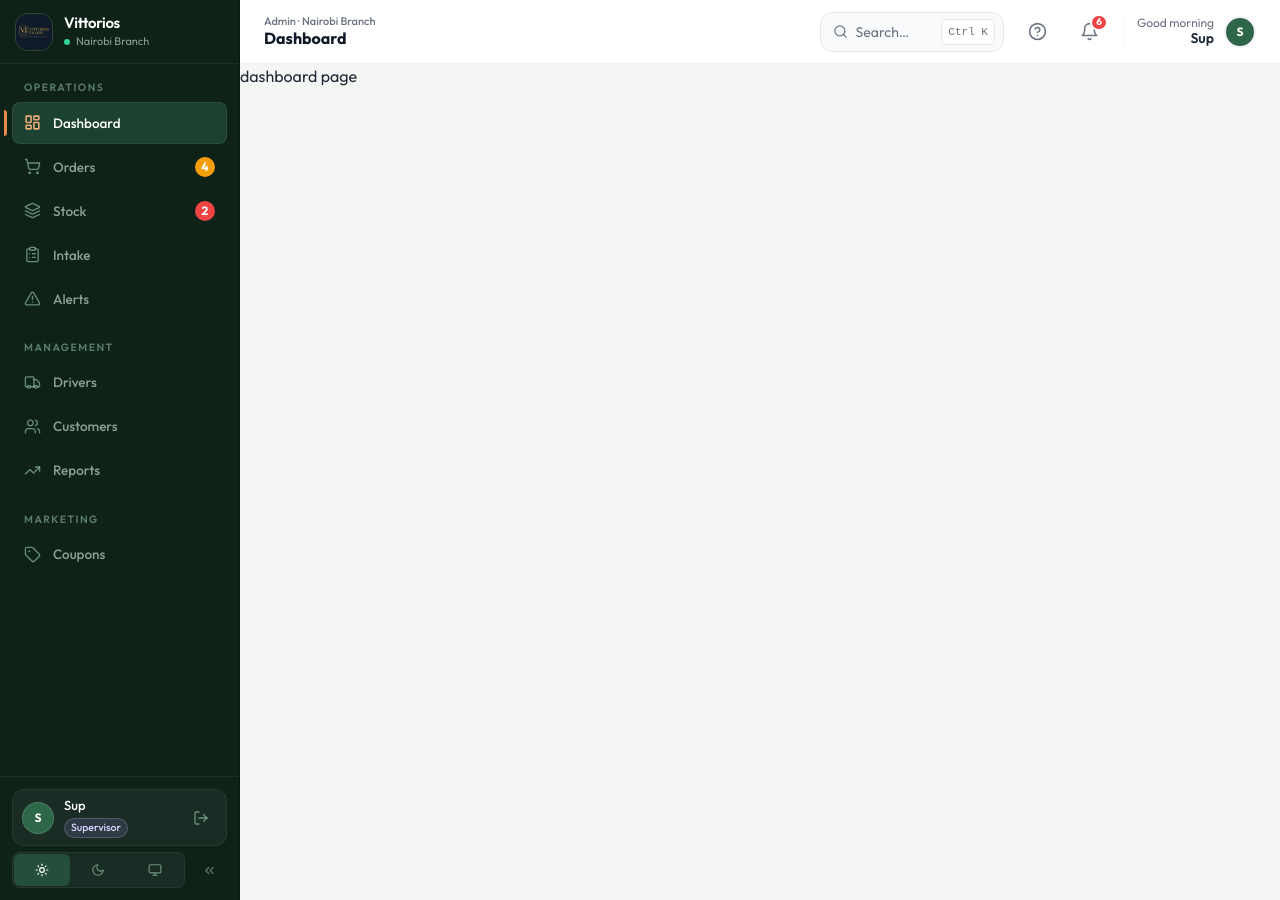
Scenario: AdminLayout — search palette › opens from the top bar, filters pages by what you type, and navigates on Enter
Click the button with aria-label "Search pages and orders": point(912, 32) [820,12,1004,52]
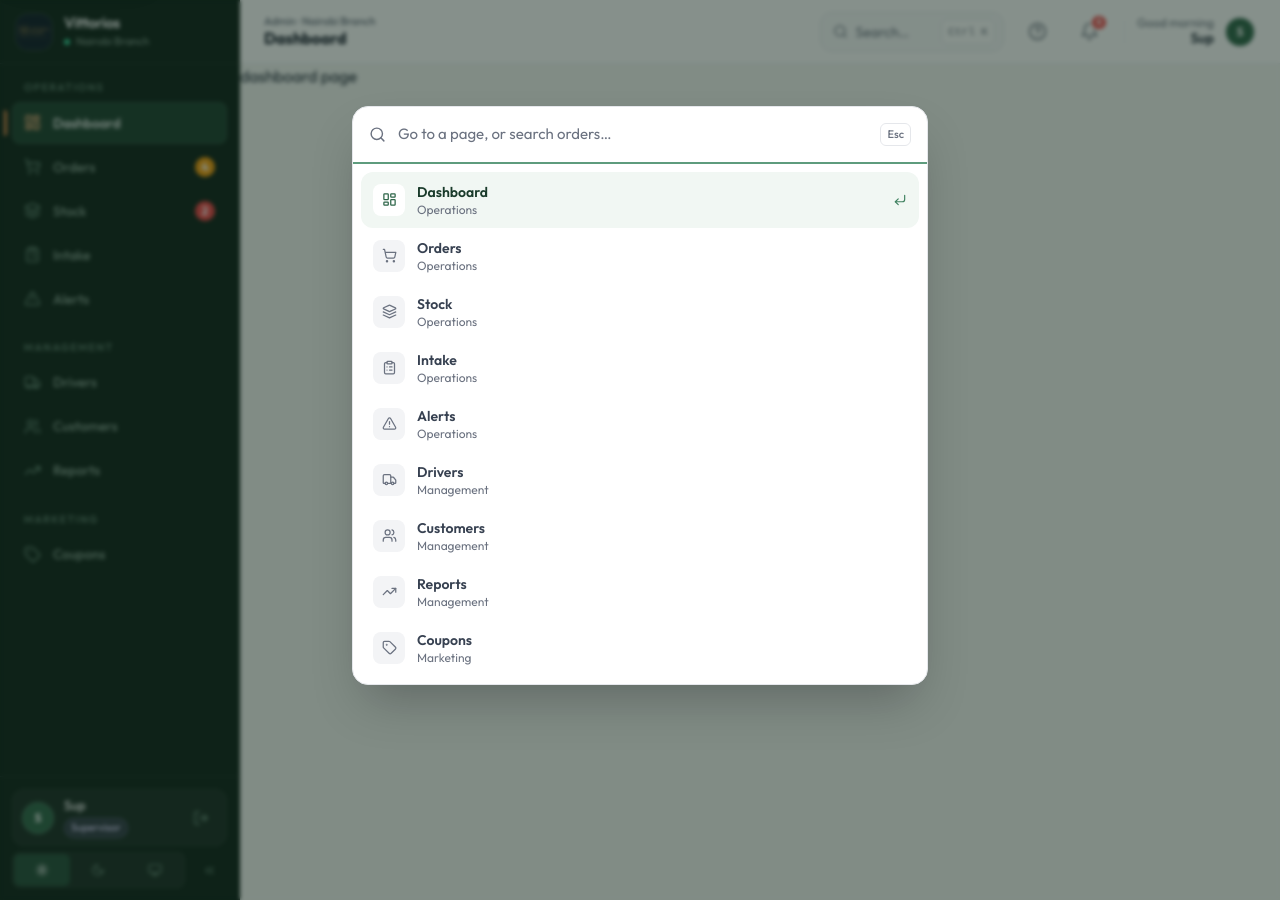
Result: the option "Orders Operations" is shown at [373,238,477,272]
Type keys "inta"
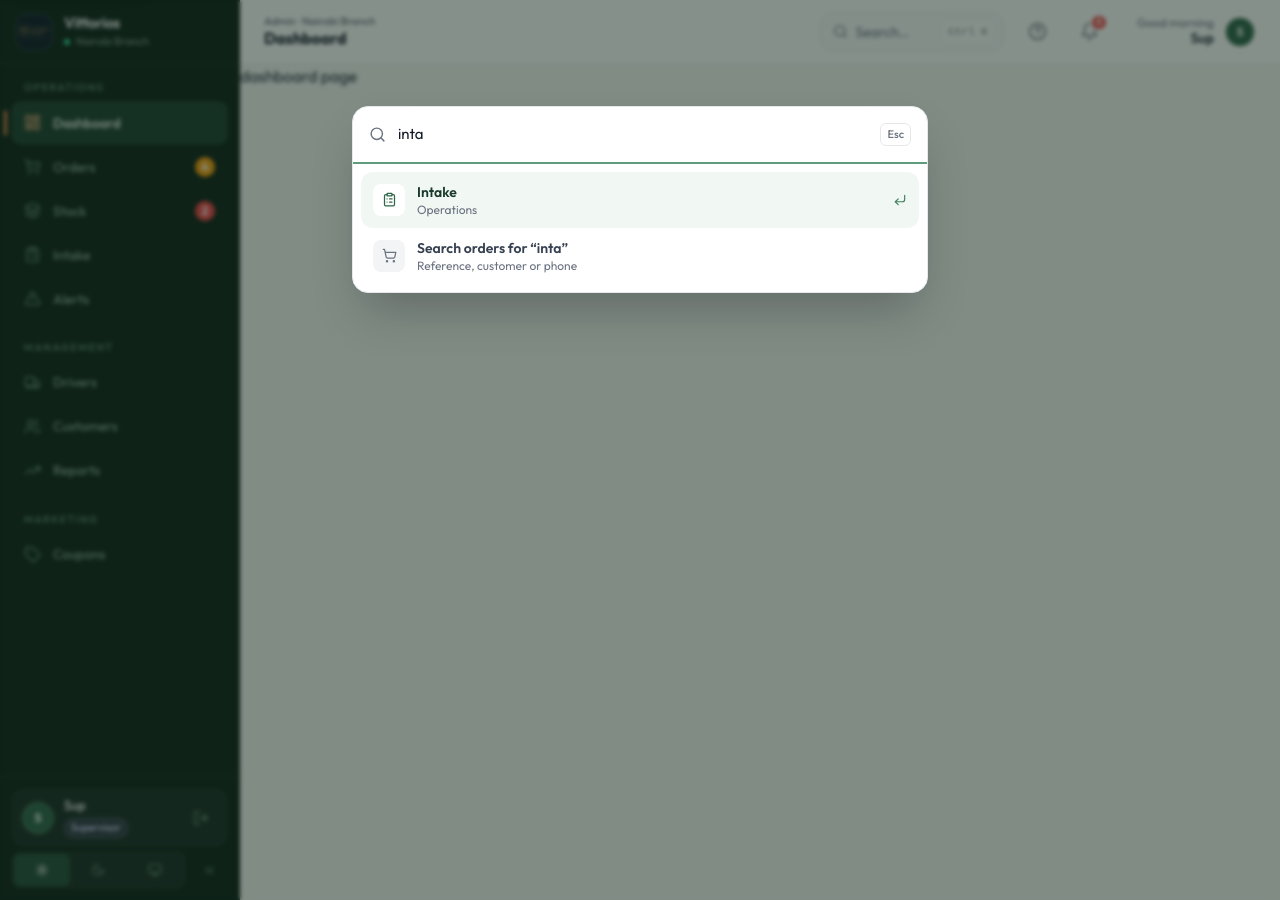
Result: the option "Intake Operations" is shown at [361,172,919,228]
Result: the option "Search orders for “inta” Reference, customer or phone" is shown at [373,238,577,272]
Press Enter
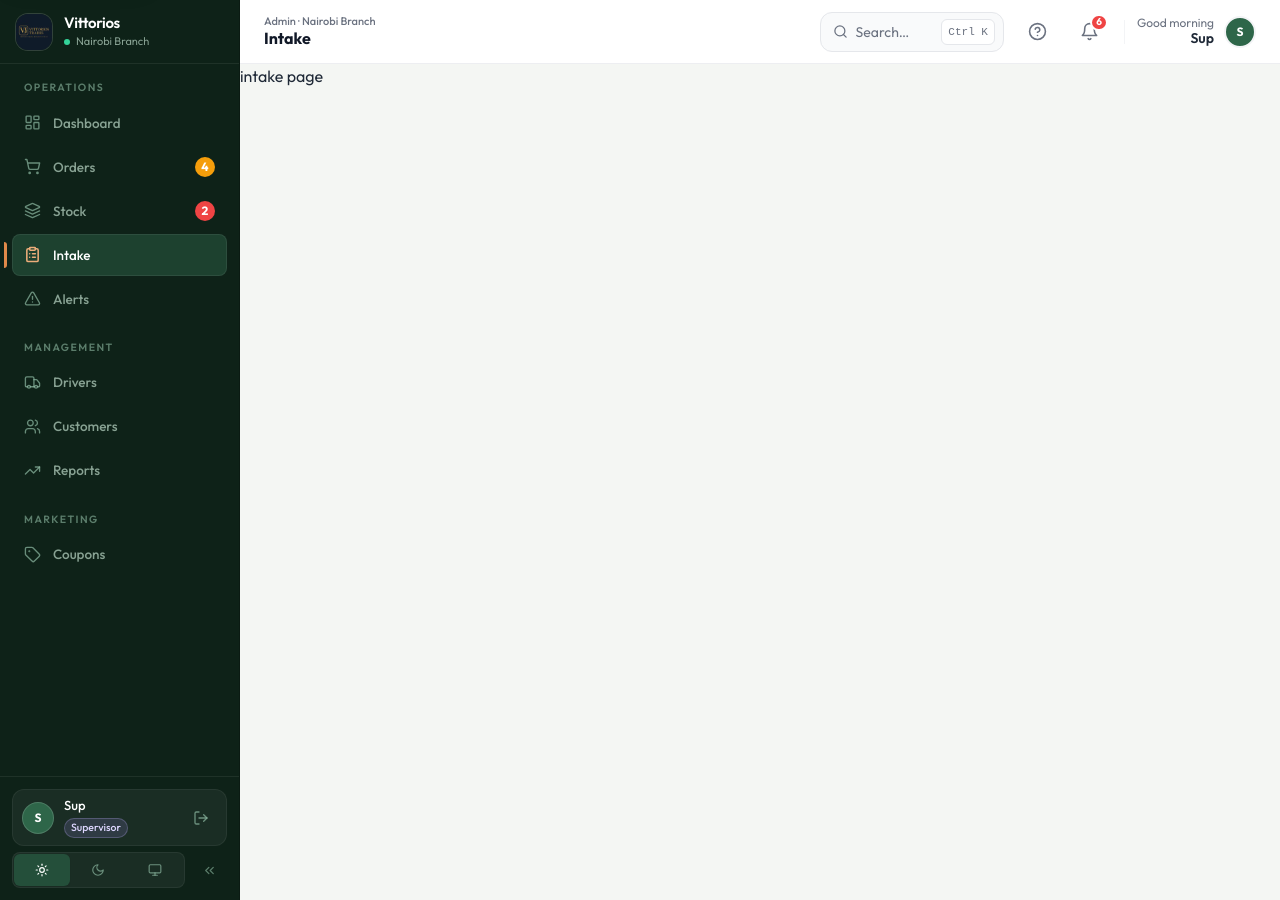
Expected: the dialog "Search pages and orders" is not shown
Result: the text "intake page" is shown at [240,66,323,86]
